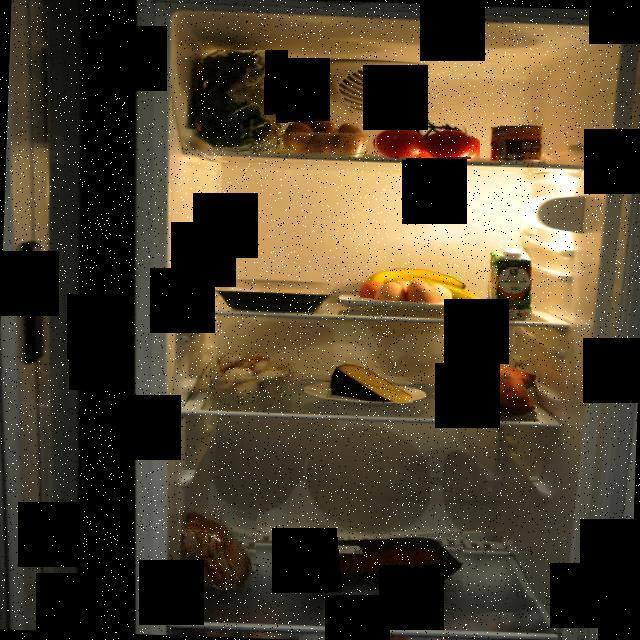banana: (362, 265, 488, 309)
beef: (288, 532, 463, 594)
bread: (182, 506, 258, 590)
cheese: (325, 362, 413, 404)
corn: (488, 123, 546, 167)
egg: (357, 280, 452, 316)
heavy_cream: (486, 248, 532, 320)
mushrooms: (210, 350, 297, 402)
potato: (276, 113, 368, 158)
spinach: (192, 50, 288, 156)
sweet_potato: (430, 356, 537, 418)
tomato: (372, 105, 480, 161)
